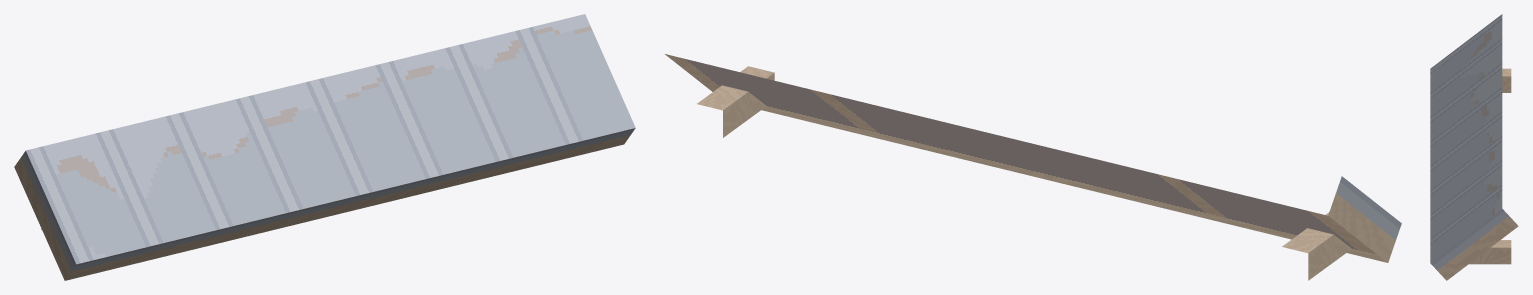
The model's file is kd_stage_135ded_4_60.glb.
The picture shows the model from 3 angles, left to right: view 1: azimuth 30°, elevation 25°; view 2: azimuth 150°, elevation 25°; view 3: azimuth 270°, elevation 25°; orthographic projection. The views are drawn at different scales.
Parts seen in each view (by area): view 1: kd_stage_135ded_4_60; view 2: kd_stage_135ded_4_60; view 3: kd_stage_135ded_4_60.
Boxes of the visible parts, x1,y1,x2,y2 form: kd_stage_135ded_4_60: (14, 14, 635, 280); kd_stage_135ded_4_60: (665, 54, 1401, 280); kd_stage_135ded_4_60: (1430, 14, 1518, 280).
Bounding box in the file's own units: 1.26 × 0.2186 × 0.2416.
1 material, 1 textured.
